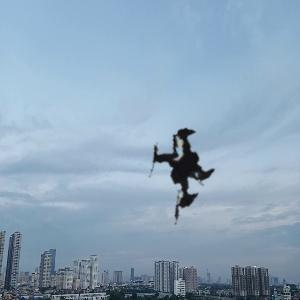drone: (43, 63, 271, 291)
